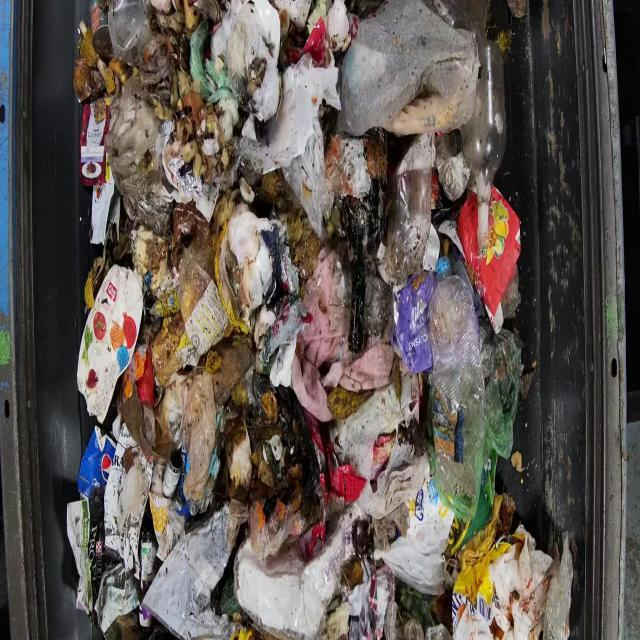E-waste: (67, 0, 568, 638)
